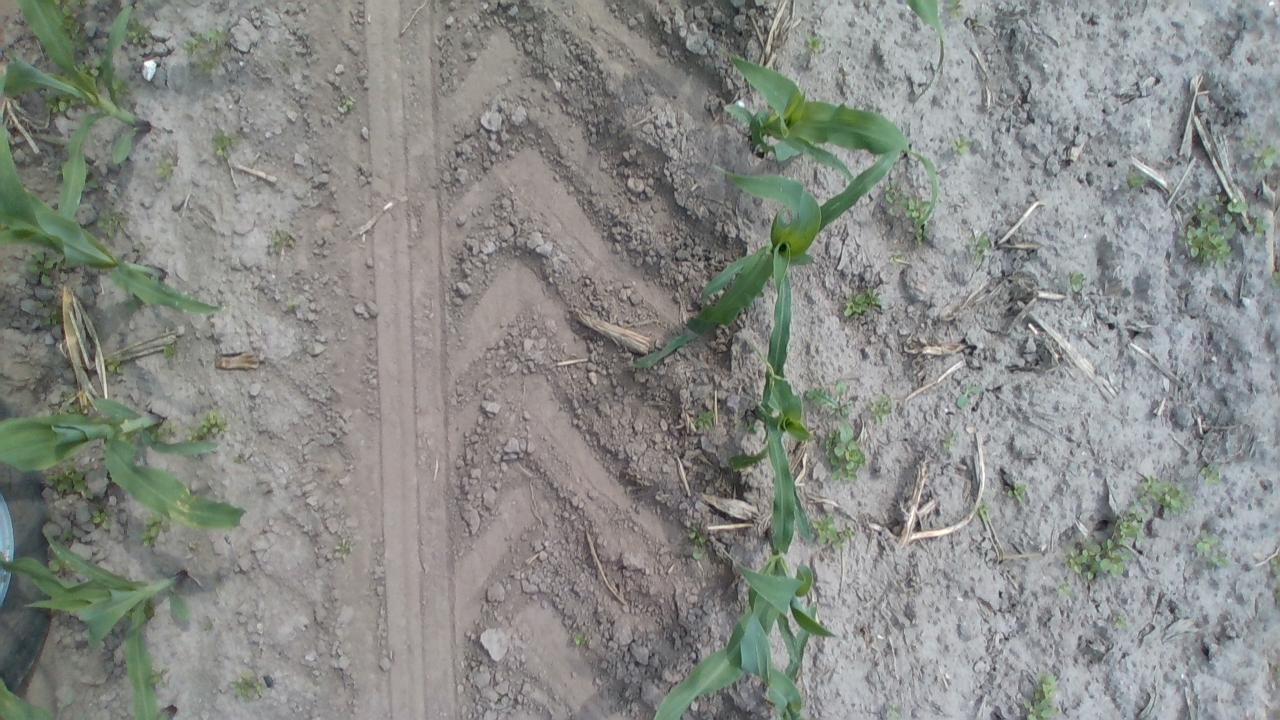Maize: (623, 142, 919, 373), (648, 430, 838, 720), (0, 112, 232, 317), (0, 526, 196, 720), (715, 49, 938, 214), (4, 0, 155, 241), (0, 397, 253, 536), (734, 242, 810, 577), (908, 2, 950, 104), (0, 671, 67, 719)
Weeds: (1180, 195, 1244, 272), (880, 178, 933, 234), (820, 422, 869, 482), (1062, 536, 1132, 578), (182, 25, 232, 76), (1134, 476, 1192, 517), (1022, 672, 1062, 719), (804, 383, 856, 418), (53, 2, 88, 53), (43, 463, 92, 498), (814, 512, 856, 550), (1193, 530, 1233, 566), (841, 286, 883, 320), (228, 669, 272, 701), (184, 412, 228, 443), (28, 248, 62, 288), (1247, 138, 1278, 178), (209, 127, 240, 162), (42, 88, 78, 118), (137, 513, 166, 550), (1114, 510, 1144, 543), (866, 394, 898, 424), (95, 206, 126, 236), (968, 229, 994, 263), (687, 524, 710, 562), (124, 15, 150, 48), (266, 226, 296, 254), (955, 384, 982, 410), (1198, 463, 1226, 488), (1004, 480, 1030, 506), (1122, 166, 1148, 192), (91, 503, 115, 530), (154, 156, 178, 180), (78, 56, 102, 80), (1246, 215, 1270, 239), (692, 406, 715, 431), (148, 664, 170, 690), (334, 535, 356, 560), (801, 32, 828, 52), (950, 134, 974, 156), (104, 353, 128, 375), (1066, 269, 1087, 293), (339, 89, 357, 115), (974, 502, 994, 524), (1054, 578, 1076, 598), (945, 1, 966, 21), (571, 630, 593, 649), (162, 340, 180, 362), (85, 168, 102, 190), (160, 420, 180, 437), (741, 417, 758, 436), (943, 430, 958, 450), (1112, 614, 1130, 630), (283, 298, 301, 314), (883, 704, 901, 719), (888, 253, 907, 267), (185, 538, 200, 552), (52, 163, 64, 179)
